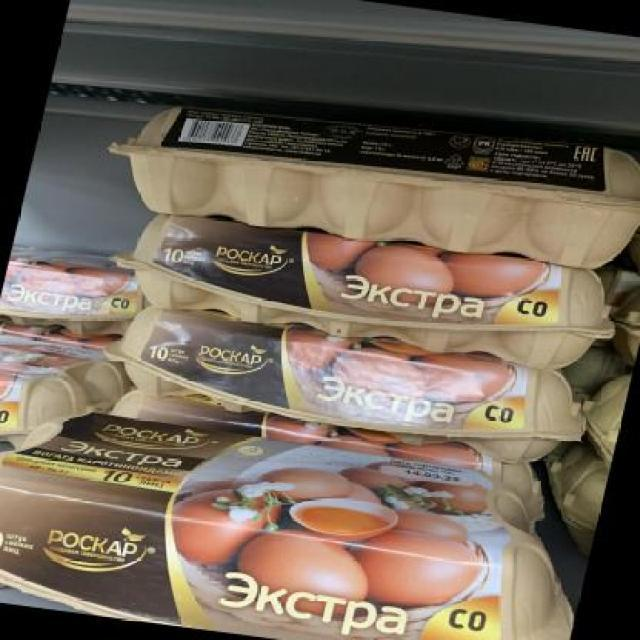Egg: (0, 394, 608, 640), (101, 207, 632, 373), (89, 305, 606, 463), (0, 333, 134, 457), (0, 242, 154, 349)
